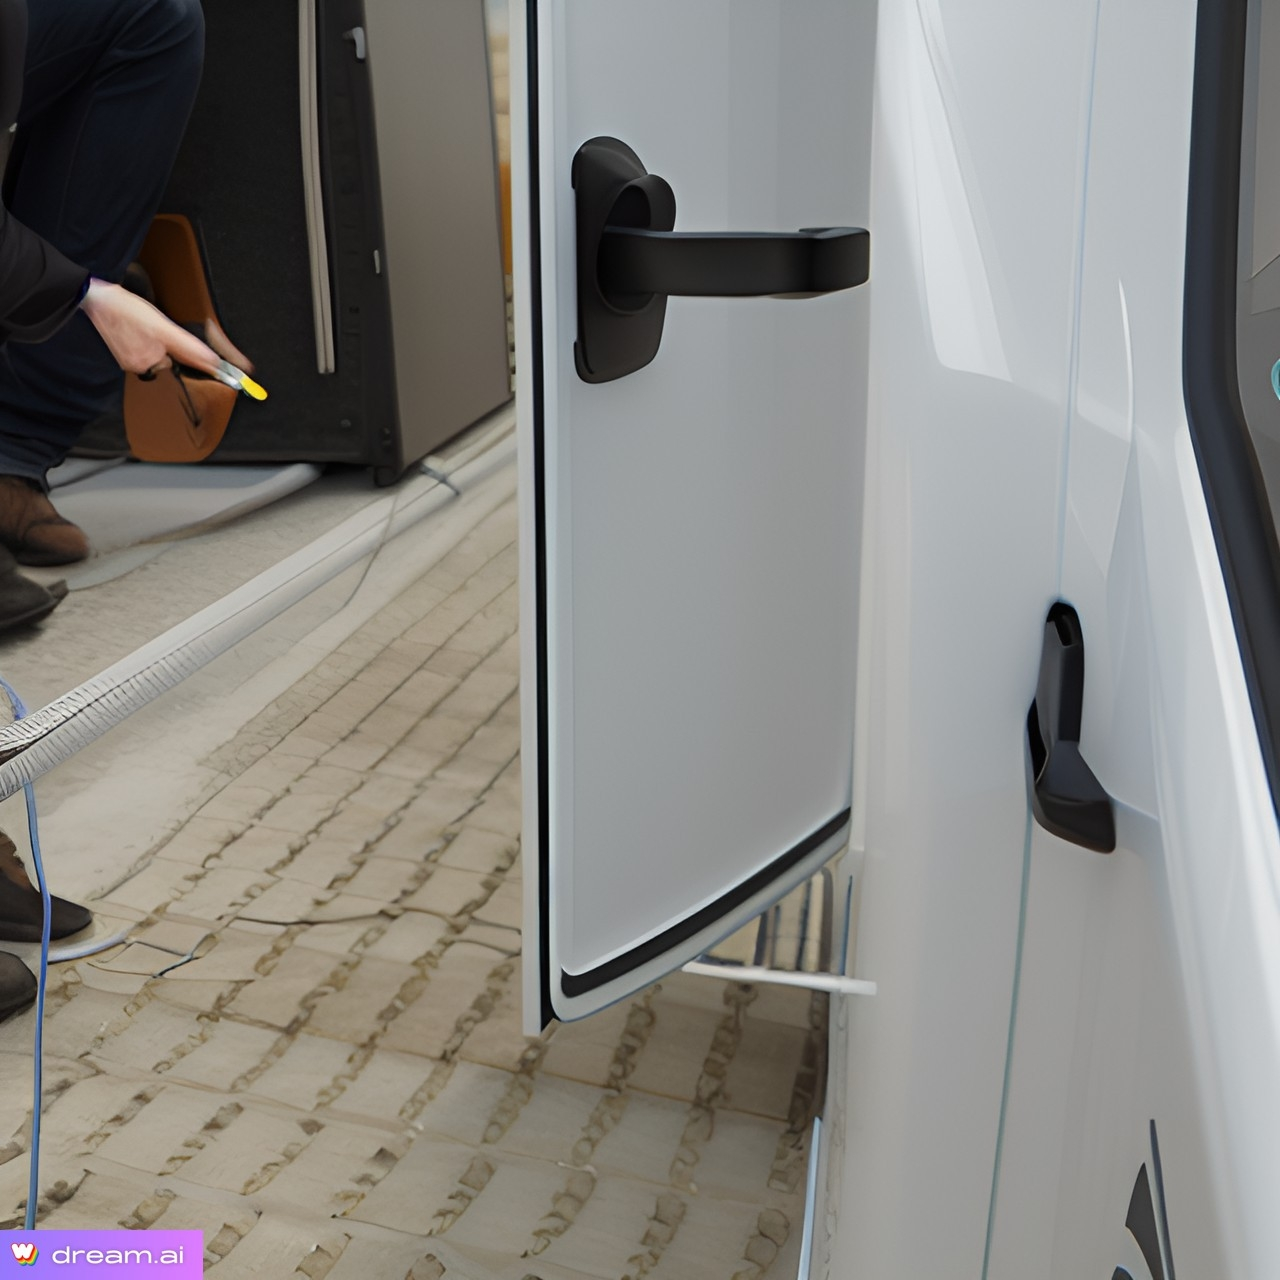door_front: (488, 1, 913, 1061)
step_front: (668, 809, 884, 1008)
